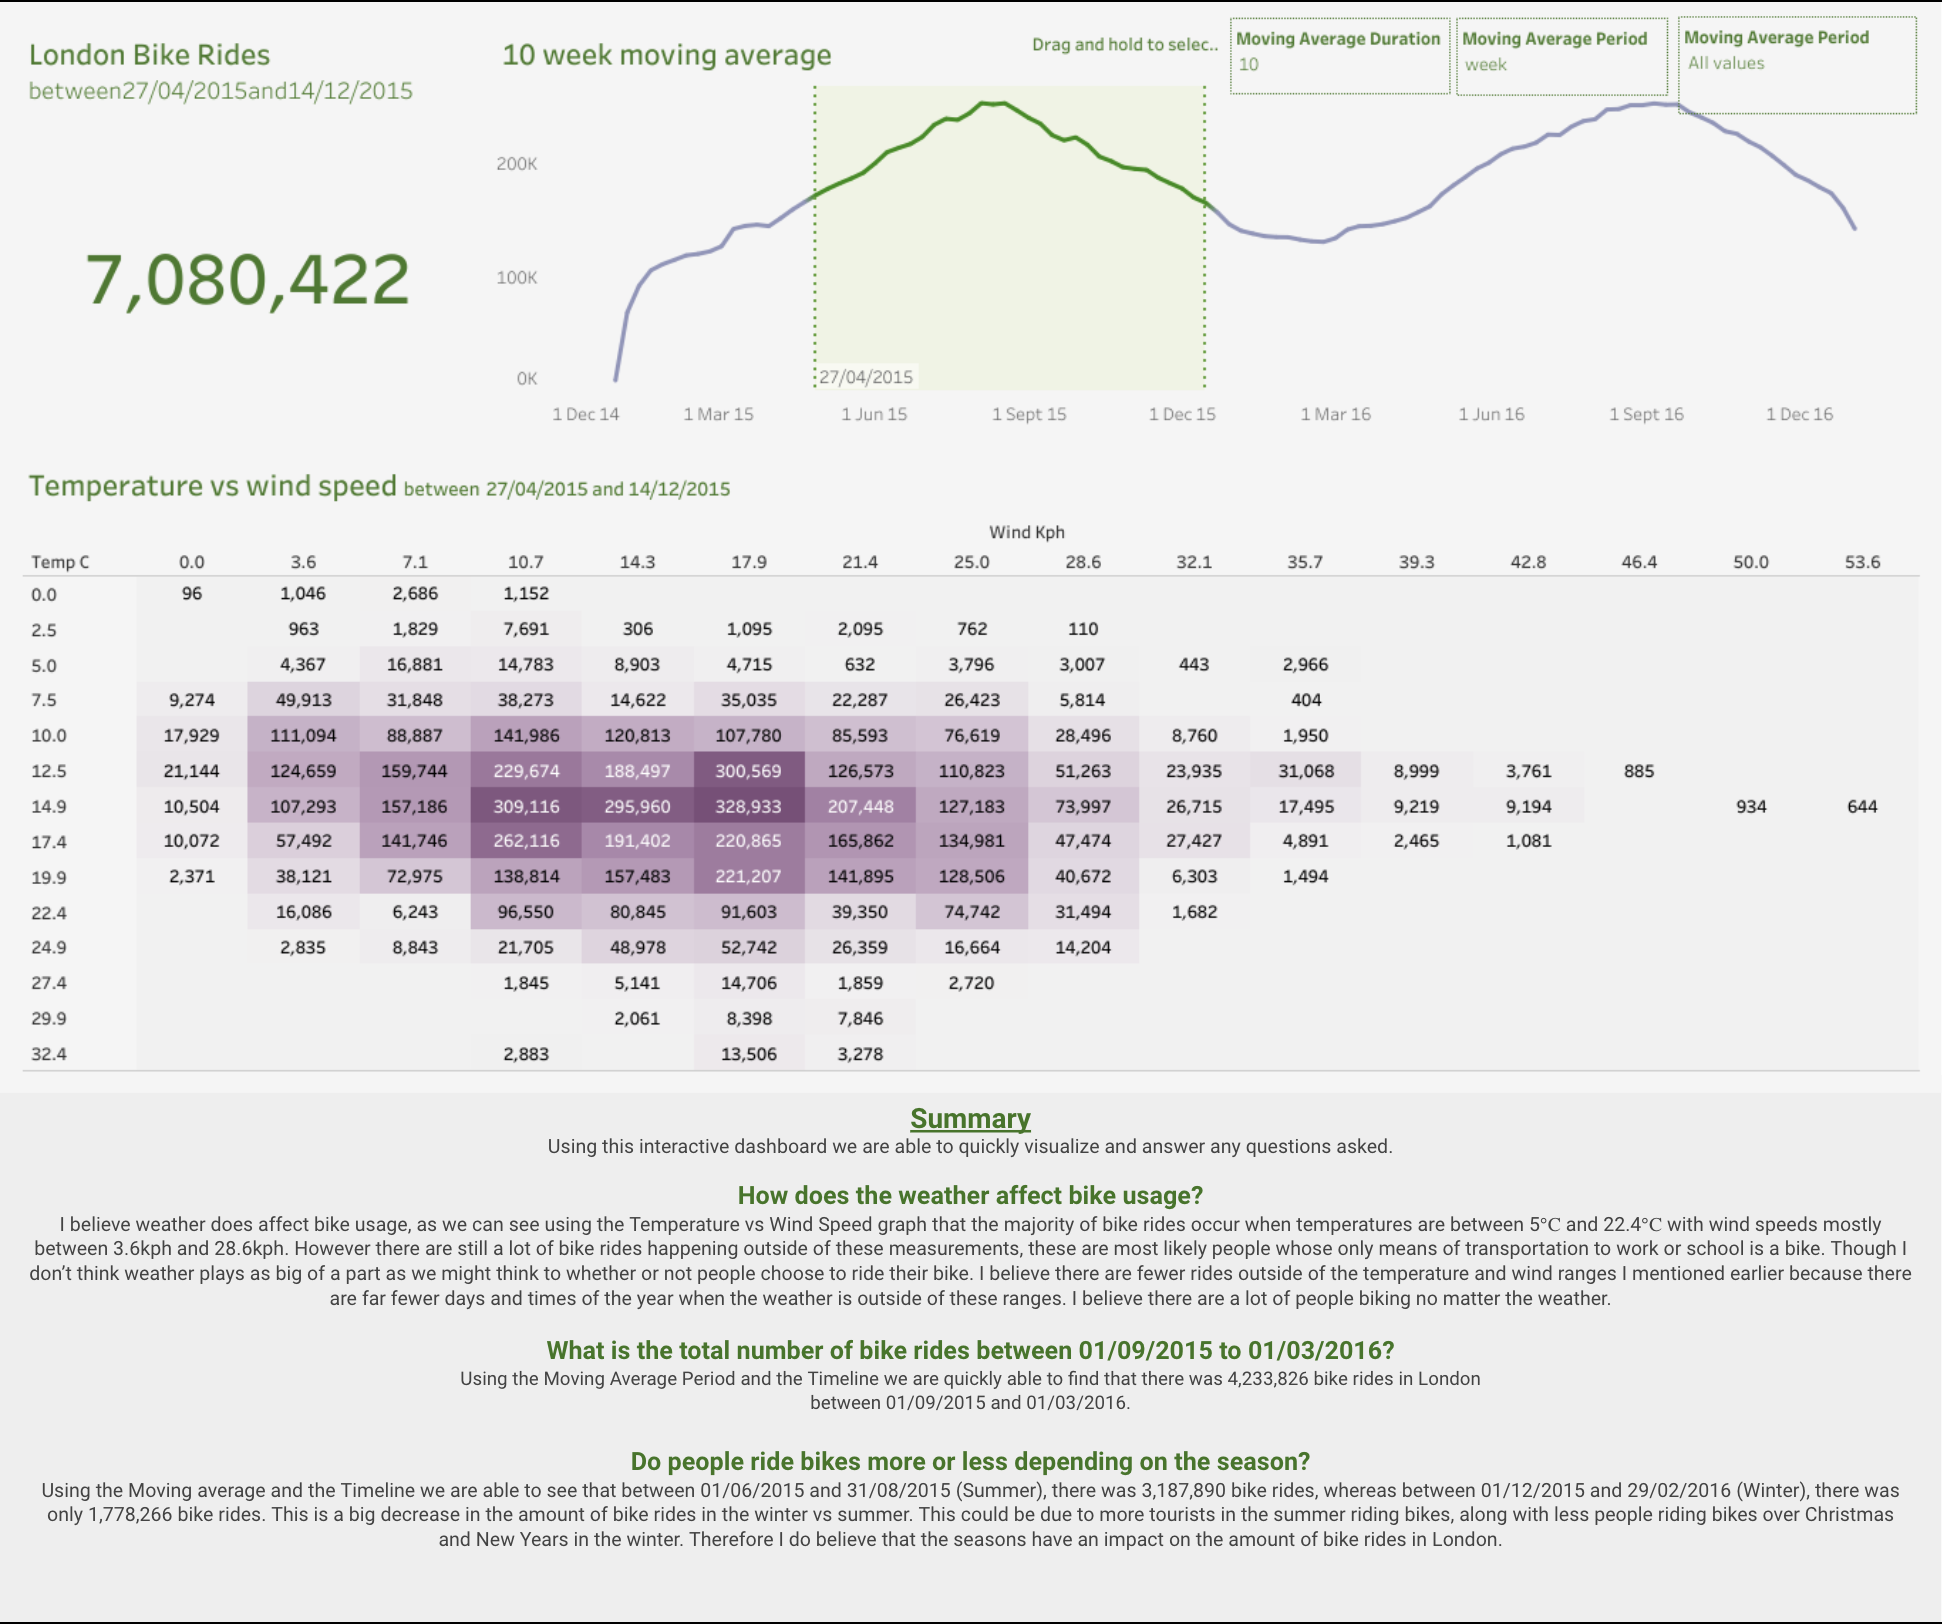

The page's visual inventory and layout, read from the dashboard file:
{"tool":"tableau","page":{"name":"Dashboard 1","canvas":[1366,768],"ordinal":0},"visuals":[{"type":"worksheet","title":"Total Rides","mark":"Automatic","box":[8,8,333,303]},{"type":"worksheet","title":"Moving Average","mark":"Automatic","rows":["Calculation1"],"cols":["Calculation_2266788387582783489"],"box":[341,8,1017,303]},{"type":"filter","title":"Moving Average","param":"[federated.1k2ui5d0nisfm7141osa21yvmpx5].[none:Calculation_2266788387582783489:q","box":[1180,10,168,69]},{"type":"parameter","param":"[Parameters].[Parameter 2]","box":[865,11,155,54]},{"type":"parameter","param":"[Parameters].[Parameter 1]","box":[1024,11,149,55]},{"type":"text","box":[723,12,137,34]},{"type":"worksheet","title":"Heatmap","mark":"Square","rows":["temp real C (bin)"],"cols":["Wind Speed Kph (bin)"],"box":[8,311,1350,449]}]}

Visuals, with their boxes on the page's 1366x768 design canvas (x1, y1, x2, y2). These are canvas units, not pixel positions in the 1942x1624 screenshot, which may show the page scaled, cropped or inside an application window:
"Total Rides" worksheet: pyautogui.locateOnScreen(8, 8, 341, 311)
"Moving Average" worksheet: pyautogui.locateOnScreen(341, 8, 1358, 311)
"Moving Average" filter: pyautogui.locateOnScreen(1180, 10, 1348, 79)
parameter: pyautogui.locateOnScreen(865, 11, 1020, 65)
parameter: pyautogui.locateOnScreen(1024, 11, 1173, 66)
text: pyautogui.locateOnScreen(723, 12, 860, 46)
"Heatmap" worksheet (Square marks): pyautogui.locateOnScreen(8, 311, 1358, 760)
